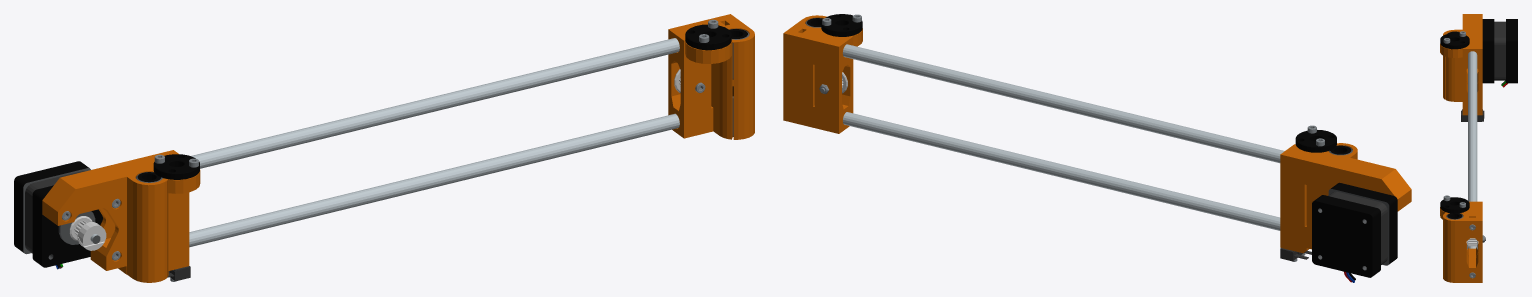
3 renders of one model, left to right at view 1: azimuth 30°, elevation 25°; view 2: azimuth 150°, elevation 25°; view 3: azimuth 270°, elevation 25°, orthographic. The views are drawn at different scales.
Visible parts, largest first — view 1: i3_mk2; view 2: i3_mk2; view 3: i3_mk2.
Boxes of the visible parts, <box> form: i3_mk2: <box>14,14,754,282</box>; i3_mk2: <box>783,14,1411,282</box>; i3_mk2: <box>1440,14,1517,282</box>.
Size of the model in its own units: 0.4276 by 0.0774 by 0.0661.
